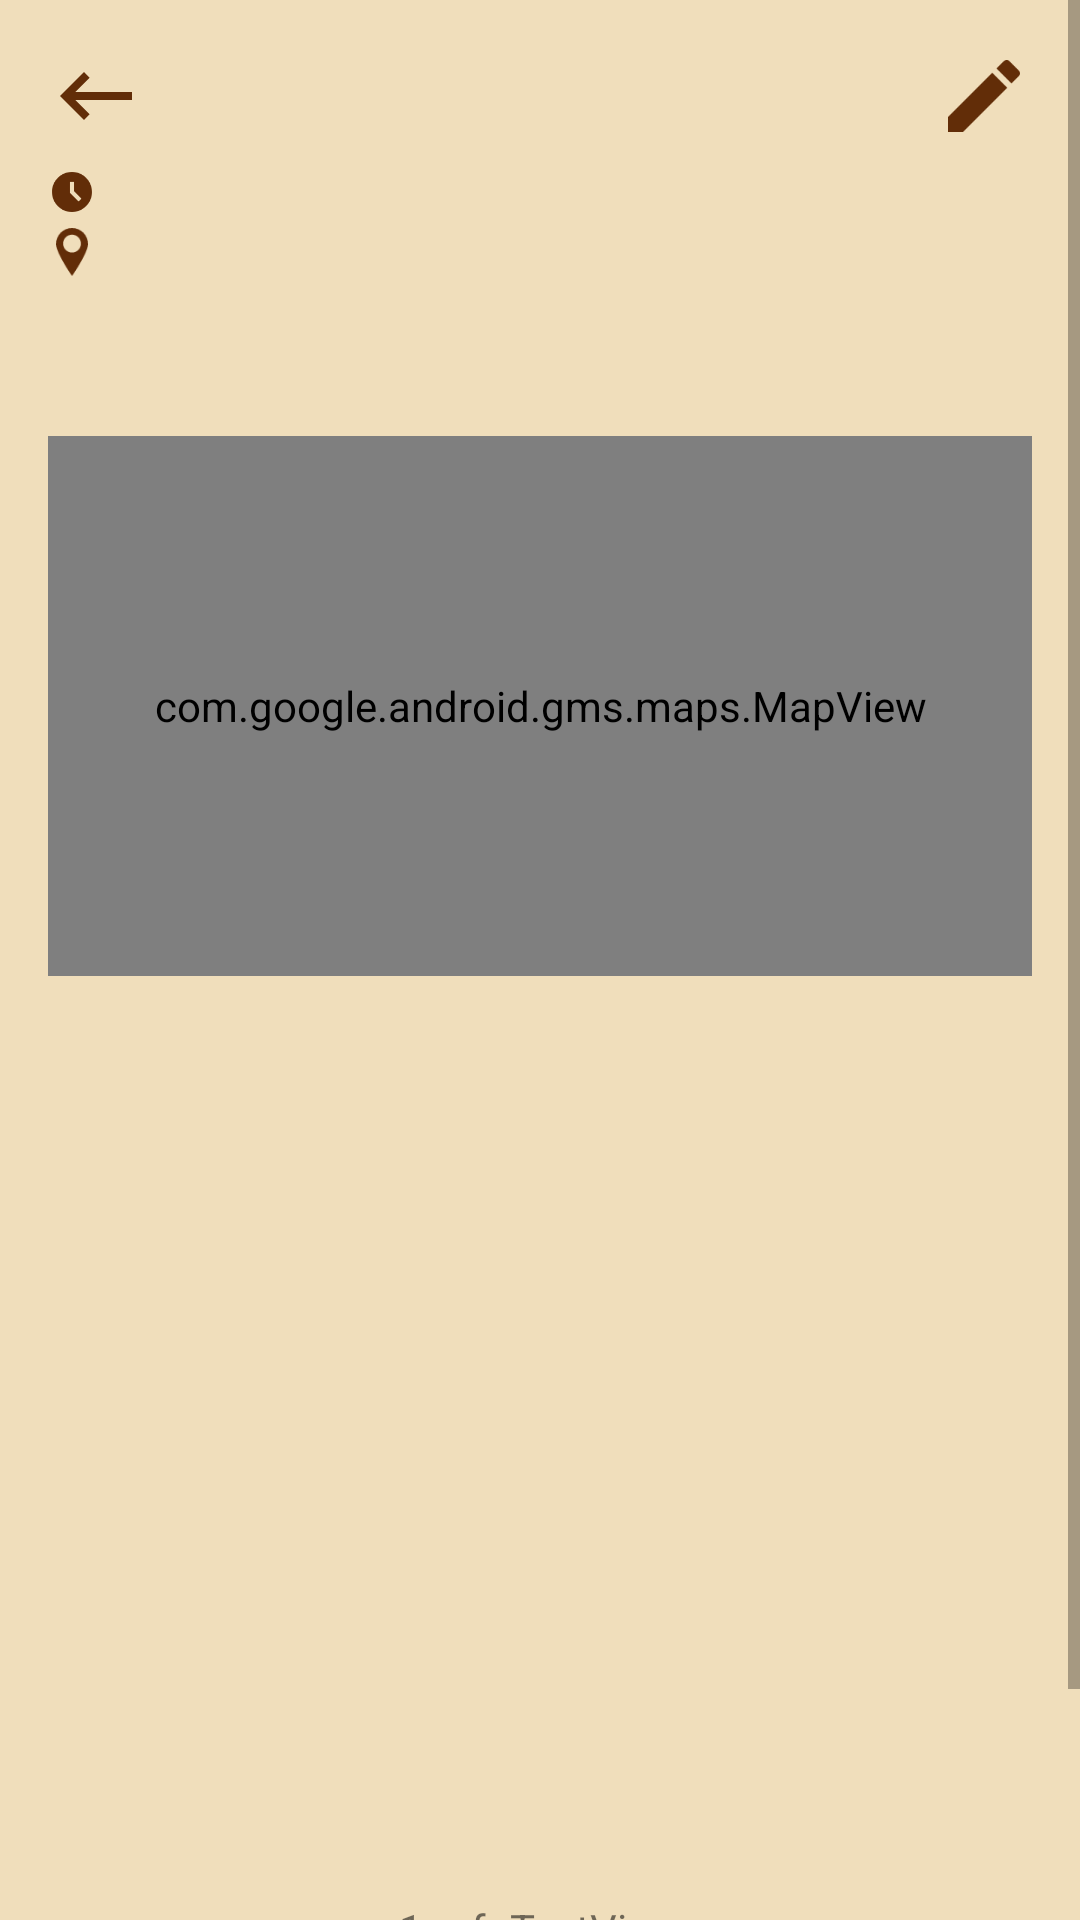

Screen size 1080px x 1920px. Icon name, then its box in pixels as [x1, y1, x2, y2]:
access time: [52, 172, 92, 212]
keyboard backspace: [60, 72, 132, 120]
map marker: [56, 228, 88, 276]
mode edit: [948, 60, 1020, 132]
